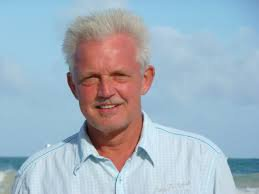noMask: (60, 15, 158, 134)
